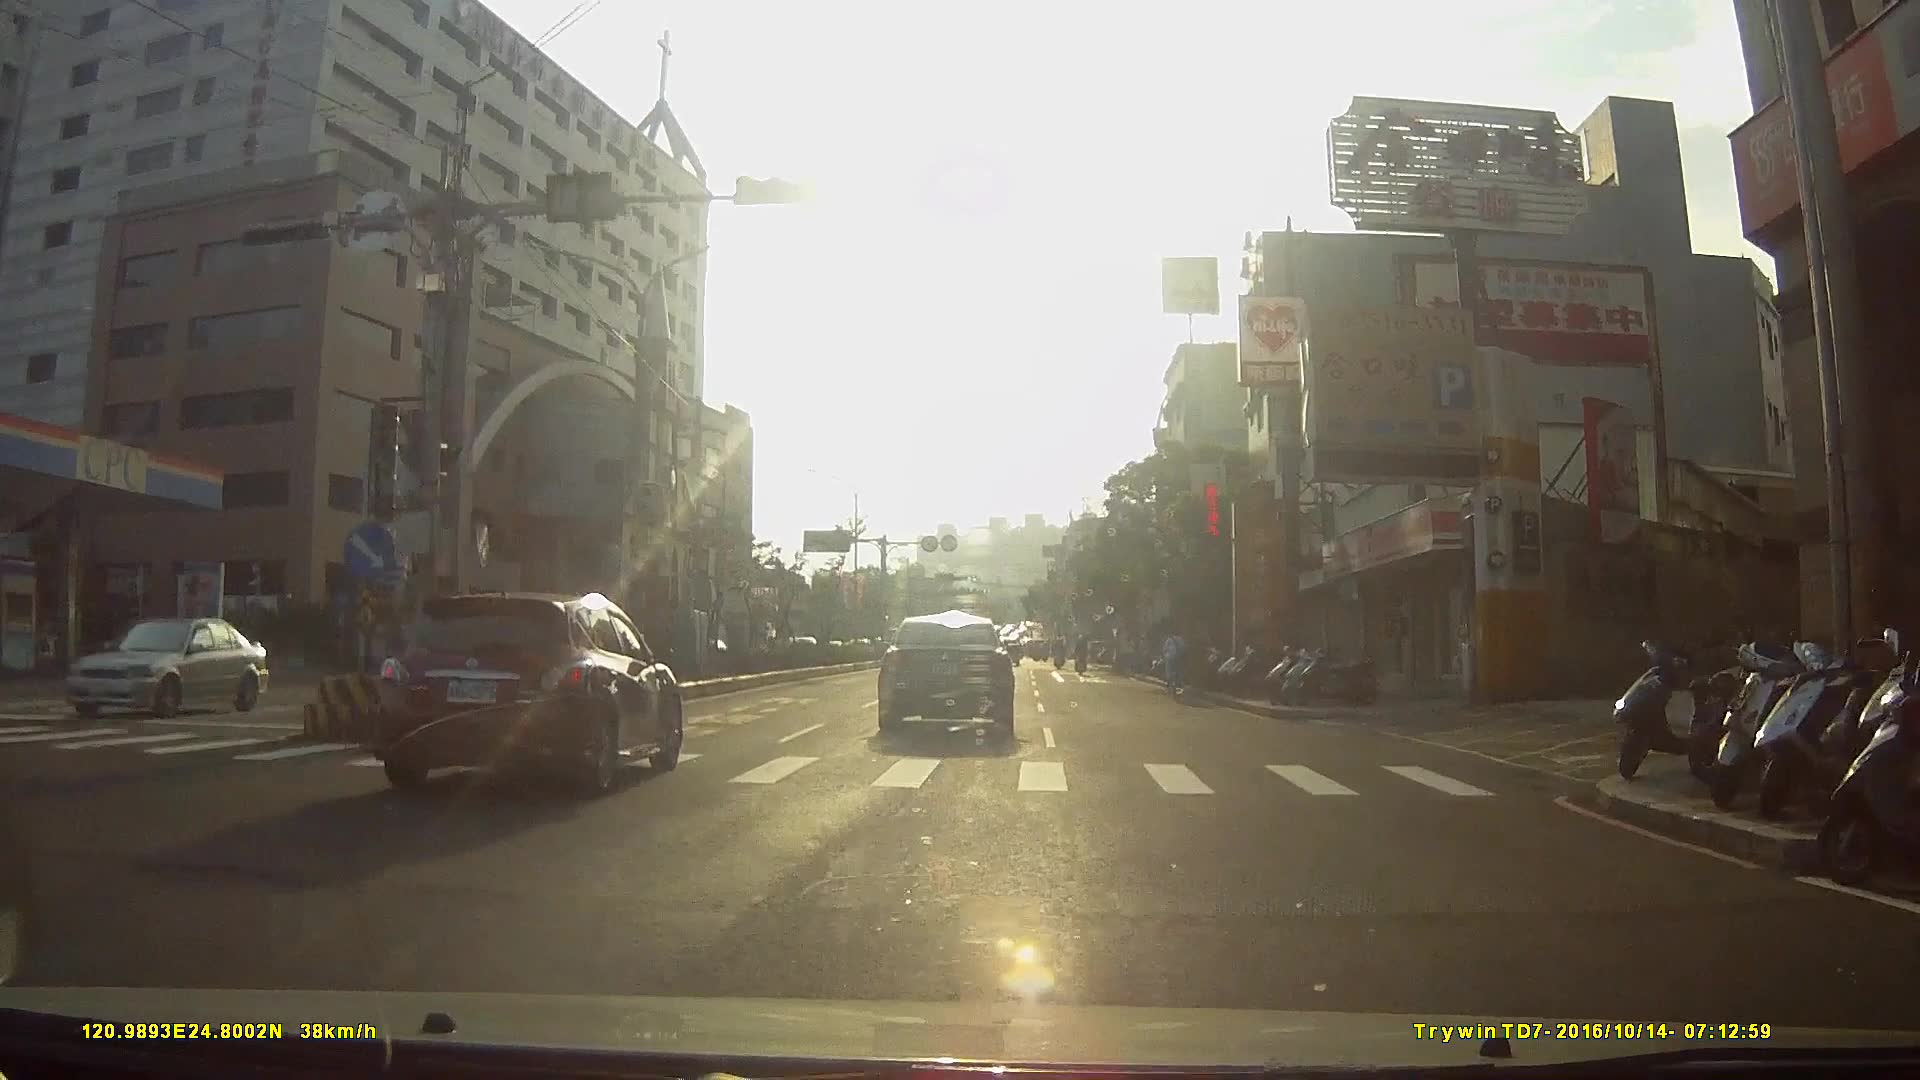rider: (1161, 624, 1190, 705)
vehicle: (370, 579, 695, 800), (64, 609, 276, 732), (871, 602, 1024, 738), (763, 607, 822, 662)
